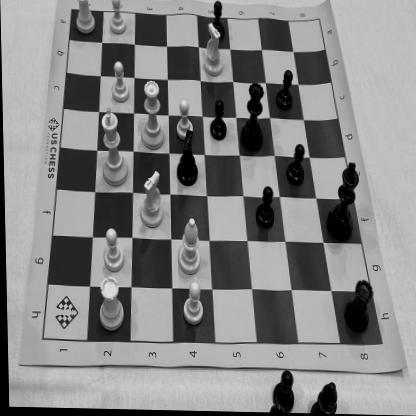black-king: (322, 158, 361, 245)
black-knight: (173, 129, 201, 188)
black-pawn: (252, 184, 276, 230), (284, 142, 307, 188), (274, 68, 295, 115), (206, 99, 228, 143), (210, 0, 226, 41)
black-queen: (238, 80, 266, 154)
black-rook: (340, 271, 374, 338)
white-bishop: (176, 215, 202, 277)
white-king: (96, 105, 129, 188)
white-knight: (137, 168, 165, 230), (201, 22, 224, 79)
white-pawn: (178, 280, 204, 327), (100, 228, 125, 274), (108, 61, 130, 106), (174, 98, 194, 140), (107, 0, 128, 37)
white-queen: (139, 77, 165, 154)
white-rook: (93, 276, 127, 335), (74, 0, 97, 37)
